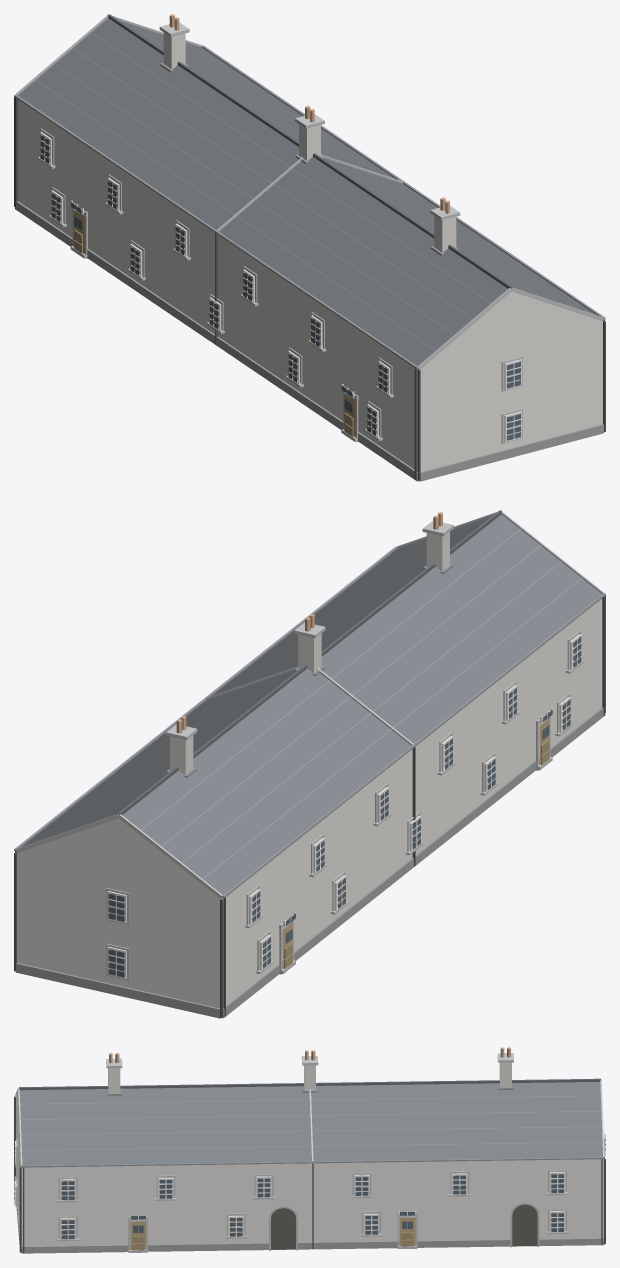
3 views of the same model, one above another, from view 1: azimuth 30°, elevation 25°; view 2: azimuth 150°, elevation 25°; view 3: azimuth 270°, elevation 25° (orthographic). The views are drawn at different scales.
Parts seen in each view (by area): view 1: slate, harl, stone_band, plinth, slate_lt, lead, frame, chim_render, slate_dk, pipe; view 2: slate, harl, stone_band, plinth, slate_lt, lead, frame, chim_render, slate_dk, pipe; view 3: slate, harl, plinth, stone_band, slate_lt, frame, slate_dk, pend_dark, lead, pipe, chim_render, door_wood (+1 smaller).
Boxes of the visible parts, x1=… form: slate: x1=18, y1=18, x2=595, y2=366; harl: x1=18, y1=99, x2=602, y2=471; stone_band: x1=15, y1=15, x2=604, y2=443; plinth: x1=15, y1=201, x2=604, y2=481; slate_lt: x1=35, y1=22, x2=580, y2=350; lead: x1=14, y1=45, x2=605, y2=368; frame: x1=40, y1=132, x2=521, y2=442; chim_render: x1=163, y1=33, x2=456, y2=252; slate_dk: x1=107, y1=14, x2=512, y2=288; pipe: x1=14, y1=96, x2=605, y2=480; slate: x1=22, y1=514, x2=601, y2=894; harl: x1=17, y1=598, x2=602, y2=1008; stone_band: x1=15, y1=511, x2=604, y2=980; plinth: x1=15, y1=706, x2=605, y2=1018; slate_lt: x1=41, y1=519, x2=582, y2=879; lead: x1=14, y1=546, x2=605, y2=898; frame: x1=107, y1=634, x2=581, y2=979; chim_render: x1=170, y1=532, x2=449, y2=774; slate_dk: x1=118, y1=510, x2=501, y2=815; pipe: x1=14, y1=595, x2=605, y2=1017; slate: x1=19, y1=1082, x2=602, y2=1165; harl: x1=16, y1=1093, x2=603, y2=1246; plinth: x1=14, y1=1176, x2=605, y2=1253; stone_band: x1=15, y1=1053, x2=604, y2=1252; slate_lt: x1=20, y1=1095, x2=602, y2=1150; frame: x1=14, y1=1132, x2=605, y2=1239; slate_dk: x1=19, y1=1078, x2=600, y2=1090; pend_dark: x1=271, y1=1204, x2=537, y2=1249; lead: x1=21, y1=1087, x2=603, y2=1167; pipe: x1=14, y1=1096, x2=605, y2=1252; chim_render: x1=108, y1=1062, x2=511, y2=1093; door_wood: x1=130, y1=1217, x2=415, y2=1249.
Bounding box in the file's own units: 11.71 × 11 × 36.26.
